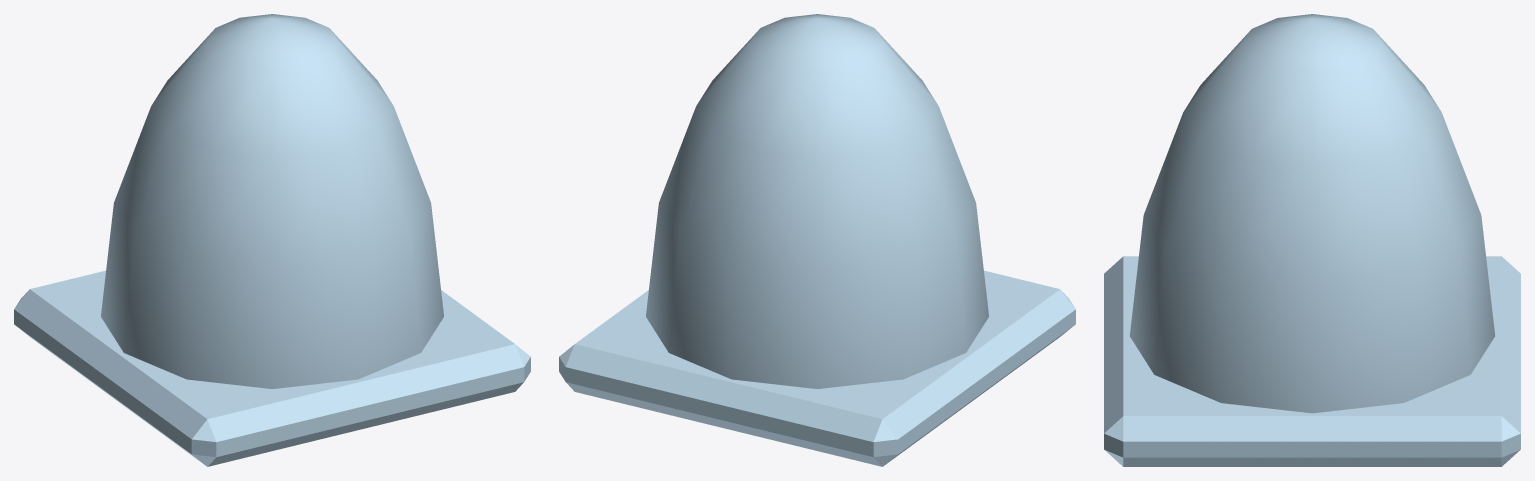
File: R4B_Dome_LOD1.fbx
3 renders of one model, left to right at view 1: azimuth 30°, elevation 25°; view 2: azimuth 150°, elevation 25°; view 3: azimuth 270°, elevation 25°, orthographic. The views are drawn at different scales.
Parts seen in each view (by area): view 1: R4B_Dome_LOD1; view 2: R4B_Dome_LOD1; view 3: R4B_Dome_LOD1.
Boxes of the visible parts, box(x1,y1,x2,y2) form: R4B_Dome_LOD1: box(14, 14, 530, 466); R4B_Dome_LOD1: box(559, 14, 1075, 466); R4B_Dome_LOD1: box(1104, 14, 1520, 466).
Bounding box in the file's own units: 0.52 × 0.506 × 0.52.
